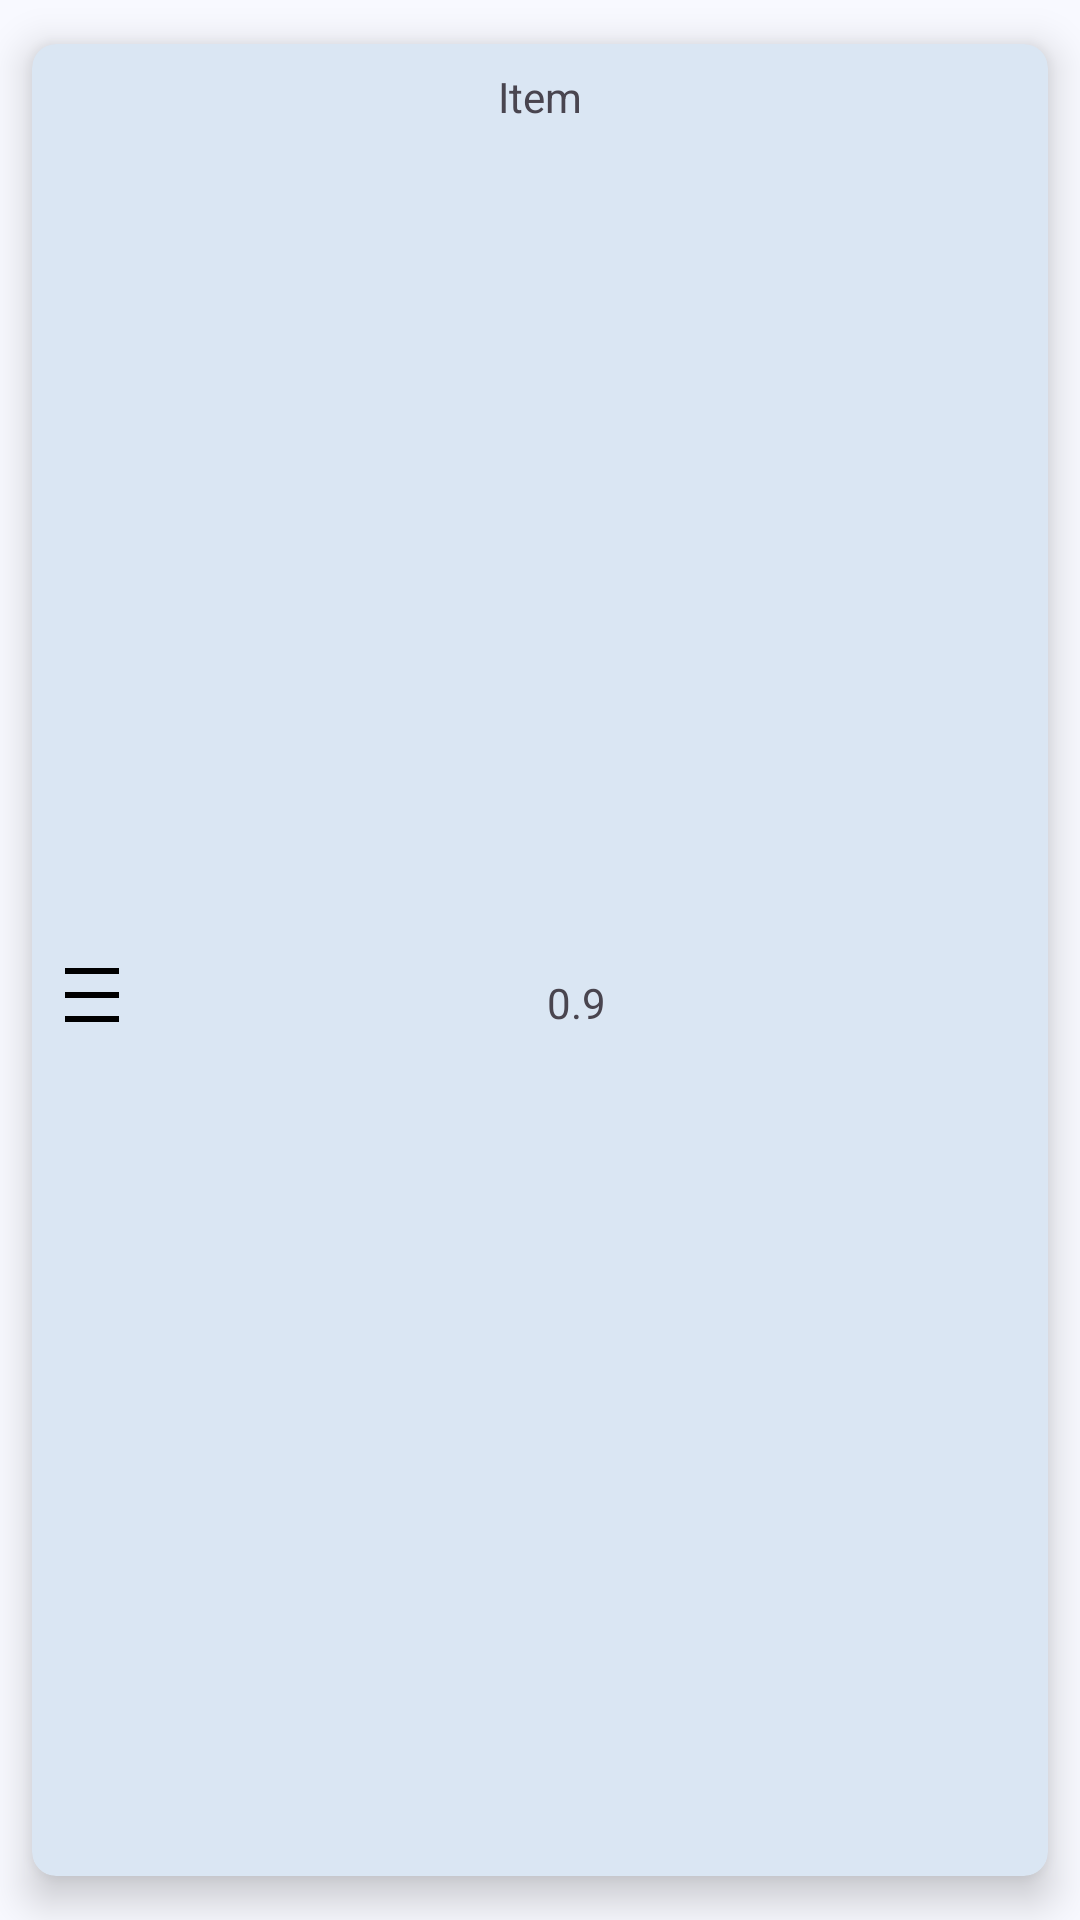

Icons on this 1080×1920 Android screen, each with the point to tap as point (x, y):
density medium: point (92, 995)
